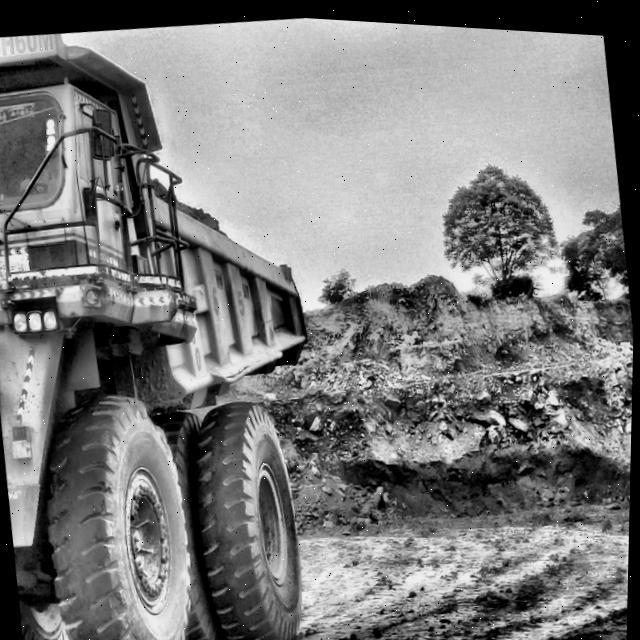dump_truck: (0, 32, 311, 640)
